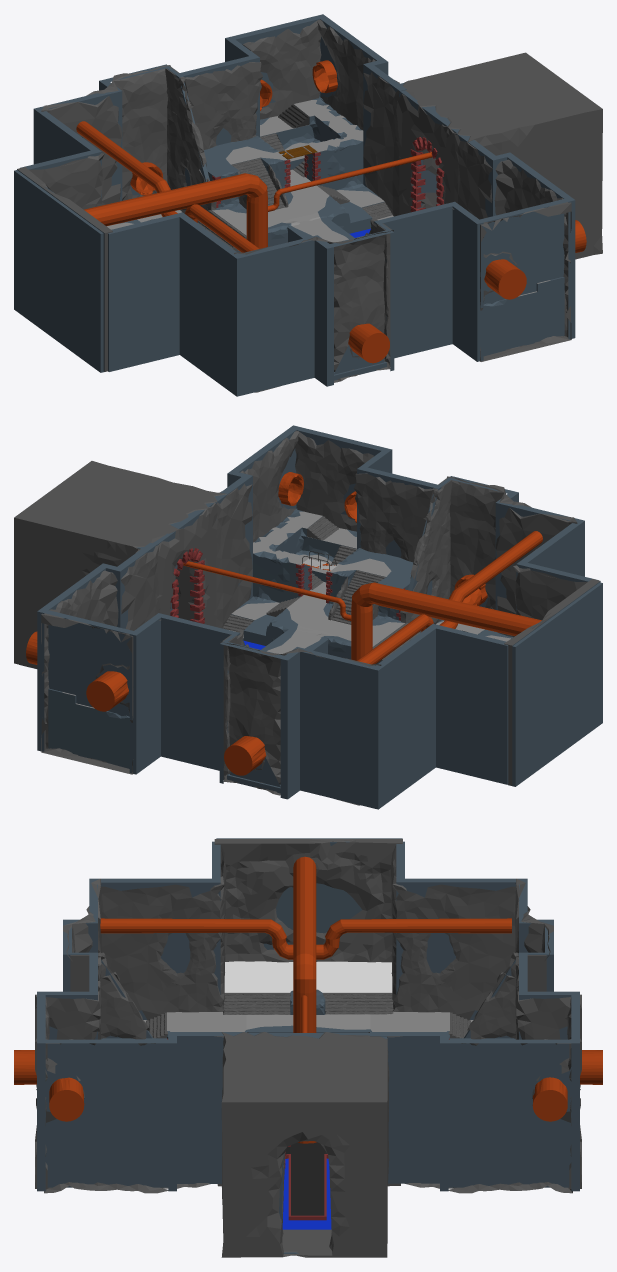
Rendered from Map_2.fbx.
The picture shows the model from 3 angles, top to bottom: view 1: azimuth 30°, elevation 25°; view 2: azimuth 150°, elevation 25°; view 3: azimuth 270°, elevation 25°; orthographic projection. The views are drawn at different scales.
Visible parts, largest first — view 1: Cube.041, Cube.018, Cube.056, Cube.007, Cube, Cube.009, Cube.010, Cube.046, Cylinder, Cube.012, Cube.040, Cube.045 (+12 smaller); view 2: Cube, Cube.018, Cube.056, Cube.040, Cube.041, Cube.046, Cube.045, Cube.009, Cylinder, Cube.043, Cube.007, Cube.010 (+12 smaller); view 3: Cube.018, Cube, Cube.041, Cube.056, Cube.008, Cube.047, Cylinder.007, Cube.052, Cylinder, Cube.042, Cube.013, Plane (+19 smaller).
Boxes of the visible parts, left/top/right/bottom form: Cube.041: left=108, top=133, right=575, bottom=396; Cube.018: left=395, top=52, right=602, bottom=259; Cube.056: left=14, top=167, right=112, bottom=372; Cube.007: left=107, top=97, right=393, bottom=252; Cube: left=20, top=14, right=406, bottom=205; Cube.009: left=41, top=65, right=170, bottom=205; Cube.010: left=317, top=19, right=399, bottom=216; Cube.046: left=234, top=230, right=393, bottom=392; Cylinder: left=84, top=173, right=267, bottom=248; Cube.012: left=184, top=44, right=262, bottom=149; Cube.040: left=334, top=277, right=564, bottom=379; Cube.045: left=454, top=134, right=567, bottom=336; Cube: left=37, top=542, right=508, bottom=809; Cube.018: left=14, top=461, right=227, bottom=668; Cube.056: left=504, top=579, right=602, bottom=786; Cube.040: left=229, top=508, right=513, bottom=663; Cube.041: left=215, top=425, right=598, bottom=611; Cube.046: left=447, top=476, right=577, bottom=637; Cube.045: left=216, top=430, right=299, bottom=628; Cube.009: left=220, top=641, right=381, bottom=805; Cylinder: left=351, top=582, right=541, bottom=660; Cube.043: left=353, top=456, right=433, bottom=562; Cube.007: left=48, top=688, right=280, bottom=792; Cube.010: left=45, top=545, right=159, bottom=748; Cube.018: left=221, top=1032, right=389, bottom=1257; Cube: left=370, top=841, right=579, bottom=1191; Cube.041: left=37, top=841, right=246, bottom=1191; Cube.056: left=214, top=838, right=402, bottom=962; Cube.008: left=390, top=845, right=518, bottom=1020; Cube.047: left=98, top=845, right=226, bottom=1020; Cylinder.007: left=100, top=918, right=511, bottom=1032; Cube.052: left=224, top=961, right=392, bottom=992; Cylinder: left=293, top=856, right=316, bottom=1032; Cube.042: left=70, top=952, right=149, bottom=1039; Cube.013: left=467, top=952, right=546, bottom=1039; Plane: left=285, top=1142, right=327, bottom=1215.
Size of the model in its own units: 3581 by 1035 by 3364.
